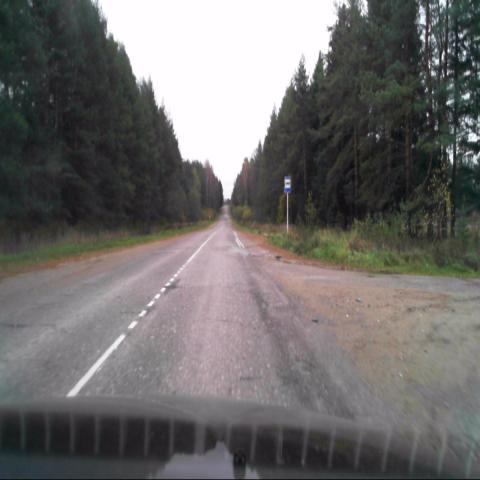5_16: (284, 175, 292, 194)
